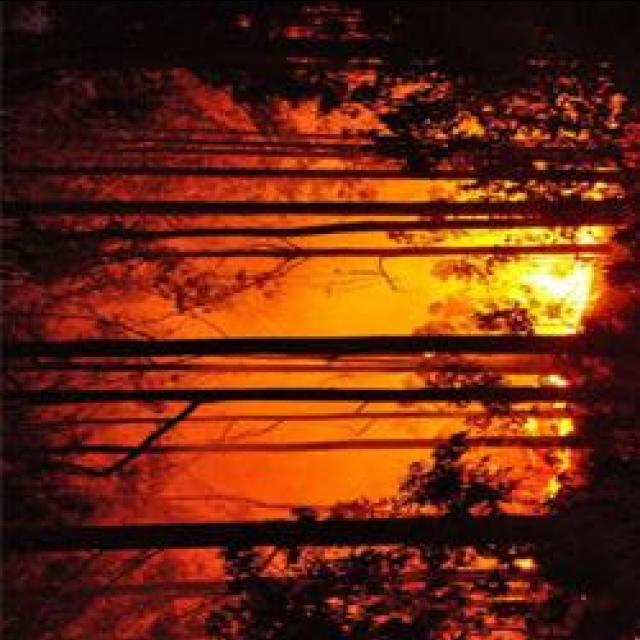fire: (528, 266, 594, 298)
